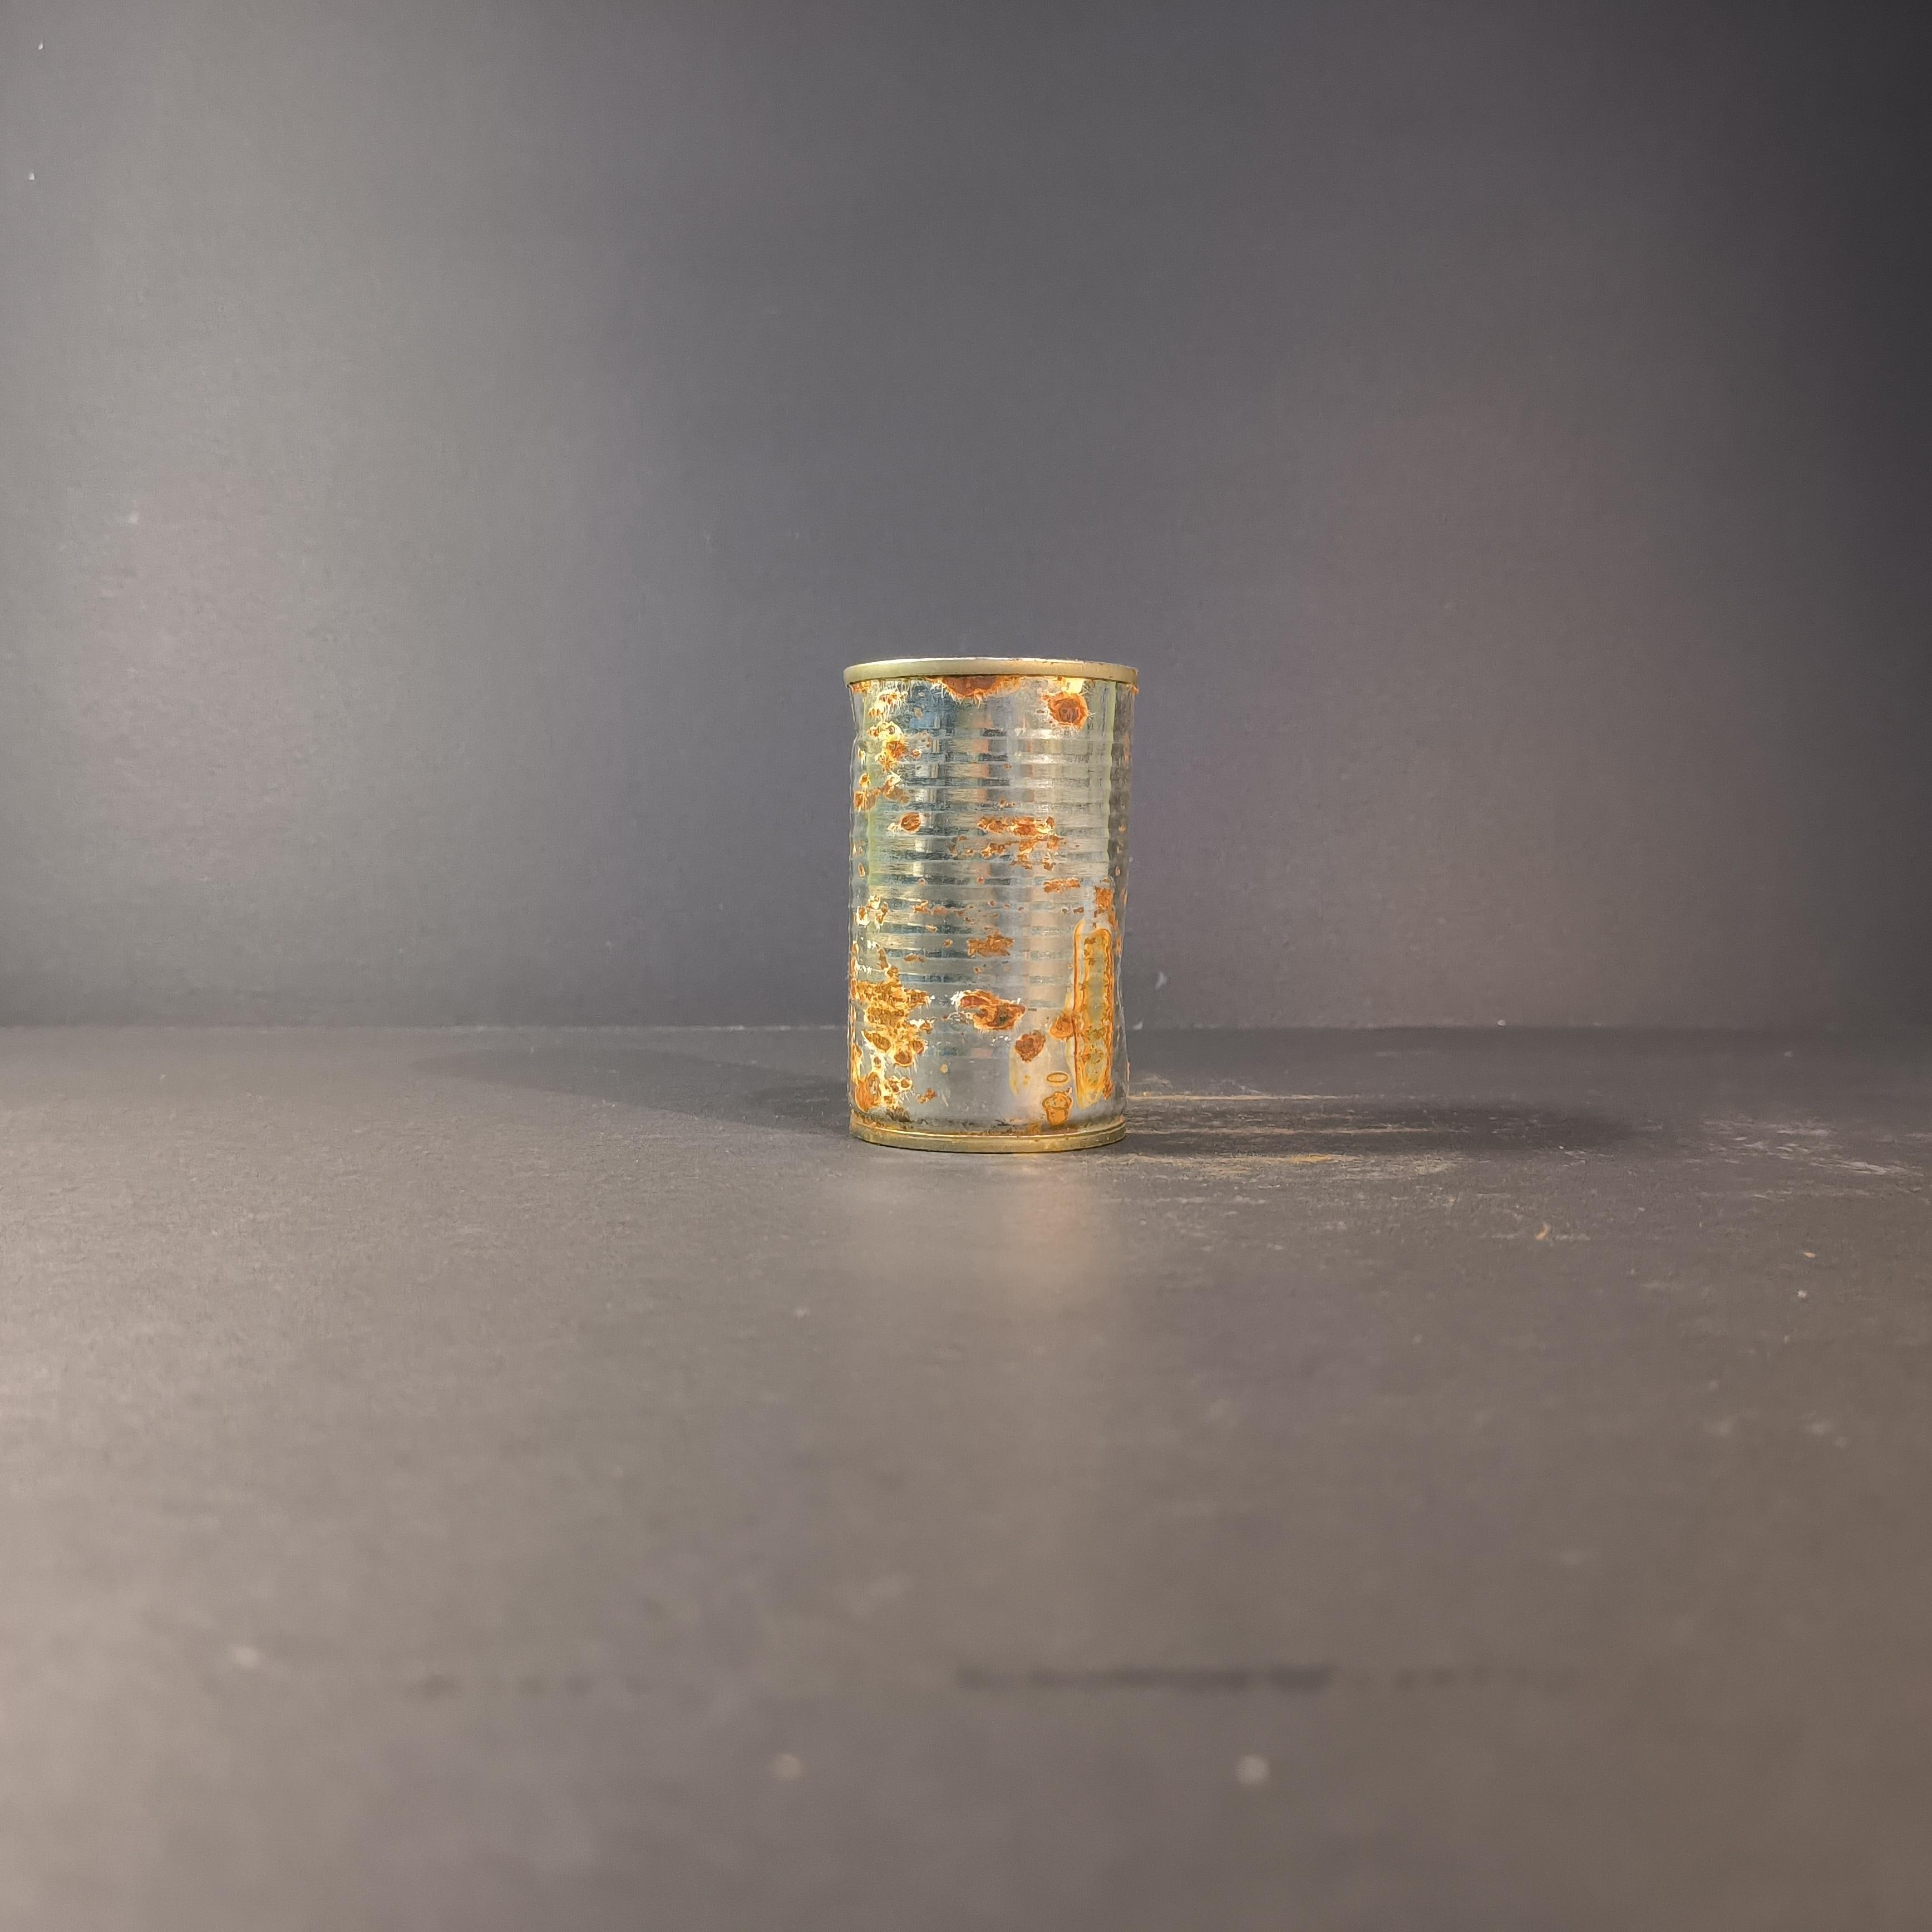Rusted: (821, 635, 1152, 1166)
